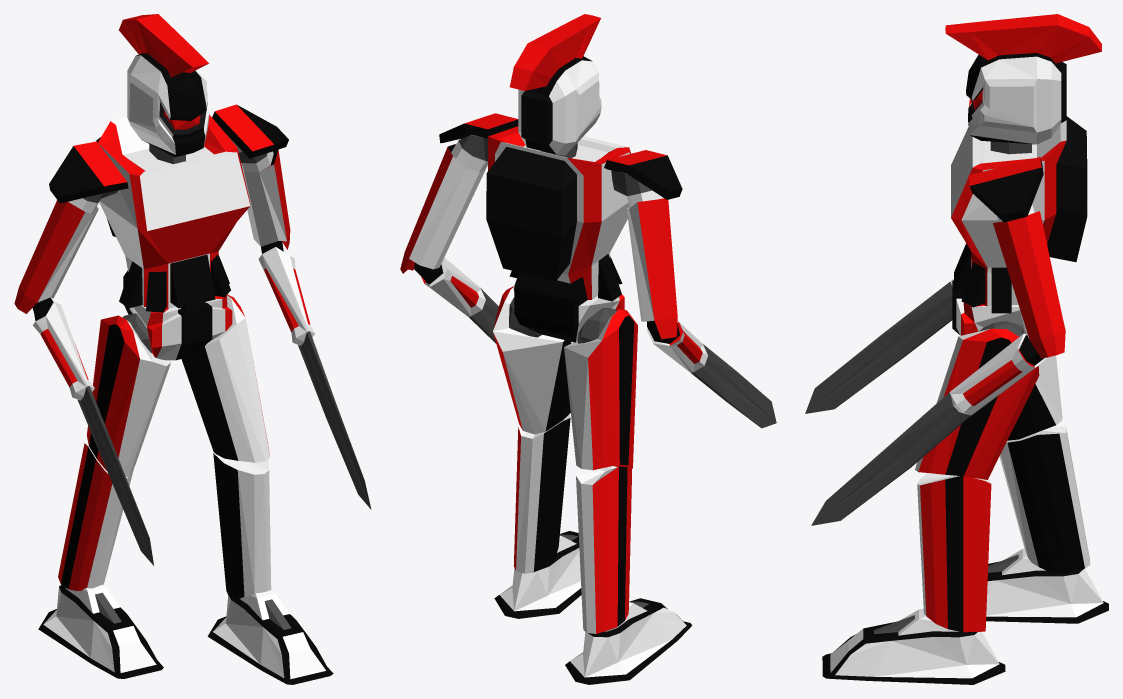
File: robots_000016.obj
3 renders of one model, left to right at view 1: azimuth 30°, elevation 25°; view 2: azimuth 150°, elevation 25°; view 3: azimuth 270°, elevation 25°, orthographic. The views are drawn at different scales.
Parts seen in each view (by area): view 1: Chest_plate_Cube.004, R_Forearm.001_Cube.028, Head_gladiator_Cube.024, R_Forearm.002_Cube.033, R_Thigh.002_Cube.027, R_Thigh_Cube.005, R_Shin.002_Cube.029, R_Foot_Cube, R_Foot.002_Cube.035, R_Shin_Cube.007, Pelvis_Cube.006, R_Arm.002_Cube.032 (+1 smaller); view 2: Chest_plate_Cube.004, R_Forearm.001_Cube.028, Head_gladiator_Cube.024, R_Thigh_Cube.005, R_Shin_Cube.007, R_Forearm.002_Cube.033, R_Shin.002_Cube.029, R_Thigh.002_Cube.027, R_Foot_Cube, Pelvis_Cube.006, R_Foot.002_Cube.035, R_Arm.002_Cube.032 (+2 smaller); view 3: R_Forearm.002_Cube.033, Head_gladiator_Cube.024, Chest_plate_Cube.004, R_Shin.002_Cube.029, R_Shin_Cube.007, R_Foot.002_Cube.035, R_Thigh.002_Cube.027, R_Foot_Cube, R_Forearm.001_Cube.028, R_Arm.003_Cube.034, R_Thigh_Cube.005, Pelvis_Cube.006.
Boxes of the visible parts, <box> form: Chest_plate_Cube.004: <box>96,115,250,312</box>; R_Forearm.001_Cube.028: <box>14,200,153,565</box>; Head_gladiator_Cube.024: <box>119,14,209,157</box>; R_Forearm.002_Cube.033: <box>242,149,371,509</box>; R_Thigh.002_Cube.027: <box>181,294,270,462</box>; R_Thigh_Cube.005: <box>87,315,171,477</box>; R_Shin.002_Cube.029: <box>213,451,271,599</box>; R_Foot_Cube: <box>38,584,163,678</box>; R_Foot.002_Cube.035: <box>207,590,333,684</box>; R_Shin_Cube.007: <box>58,443,134,591</box>; Pelvis_Cube.006: <box>123,270,232,360</box>; R_Arm.002_Cube.032: <box>49,141,128,213</box>; Chest_plate_Cube.004: <box>486,126,630,301</box>; R_Forearm.001_Cube.028: <box>626,198,776,428</box>; Head_gladiator_Cube.024: <box>509,14,601,155</box>; R_Thigh_Cube.005: <box>564,309,637,470</box>; R_Shin_Cube.007: <box>576,466,631,633</box>; R_Forearm.002_Cube.033: <box>400,144,498,343</box>; R_Shin.002_Cube.029: <box>513,414,570,573</box>; R_Thigh.002_Cube.027: <box>493,286,571,434</box>; R_Foot_Cube: <box>565,598,692,684</box>; Pelvis_Cube.006: <box>513,272,624,342</box>; R_Foot.002_Cube.035: <box>494,531,581,618</box>; R_Arm.002_Cube.032: <box>604,150,682,207</box>; R_Forearm.002_Cube.033: <box>811,211,1065,525</box>; Head_gladiator_Cube.024: <box>945,14,1101,144</box>; Chest_plate_Cube.004: <box>951,116,1087,313</box>; R_Shin.002_Cube.029: <box>917,473,991,632</box>; R_Shin_Cube.007: <box>999,421,1090,573</box>; R_Foot.002_Cube.035: <box>822,608,1005,684</box>; R_Thigh.002_Cube.027: <box>915,328,1039,479</box>; R_Foot_Cube: <box>986,548,1108,623</box>; R_Forearm.001_Cube.028: <box>805,279,953,413</box>; R_Arm.003_Cube.034: <box>968,157,1043,222</box>; R_Thigh_Cube.005: <box>1007,355,1062,440</box>; Pelvis_Cube.006: <box>952,280,1026,335</box>.
Bounding box in the file's own units: 1.51 × 3.17 × 1.4.
